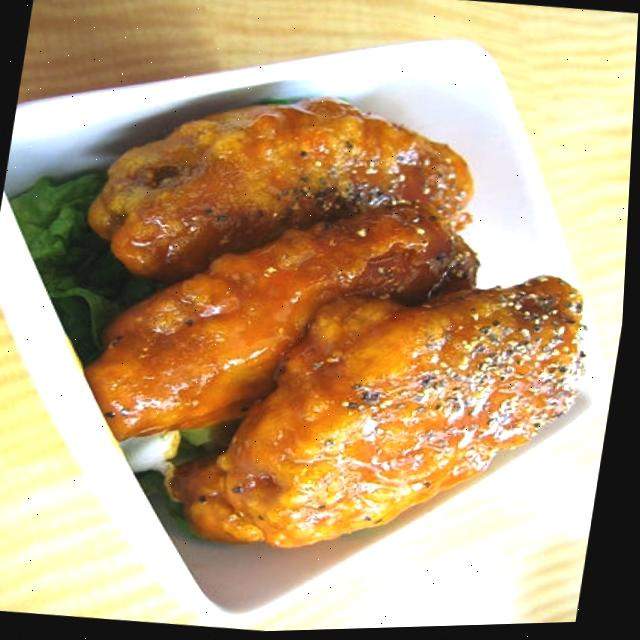鸡肉料理 含炸鸡: (0, 0, 639, 632)
